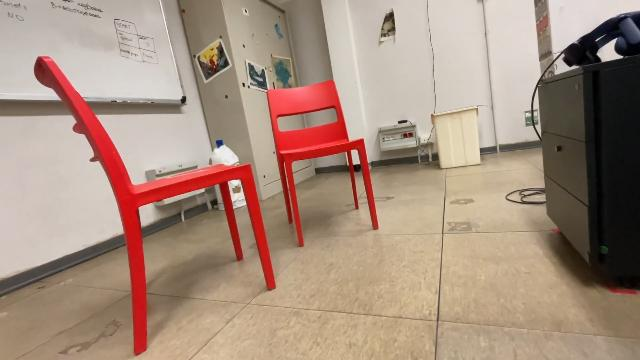Chair: (29, 50, 280, 360), (262, 76, 386, 252)
